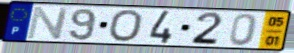0: (227, 12, 259, 47)
2: (191, 11, 225, 46)
4: (148, 9, 174, 46)
9: (66, 7, 98, 42)
N: (25, 6, 71, 40)
O: (107, 9, 145, 43)
